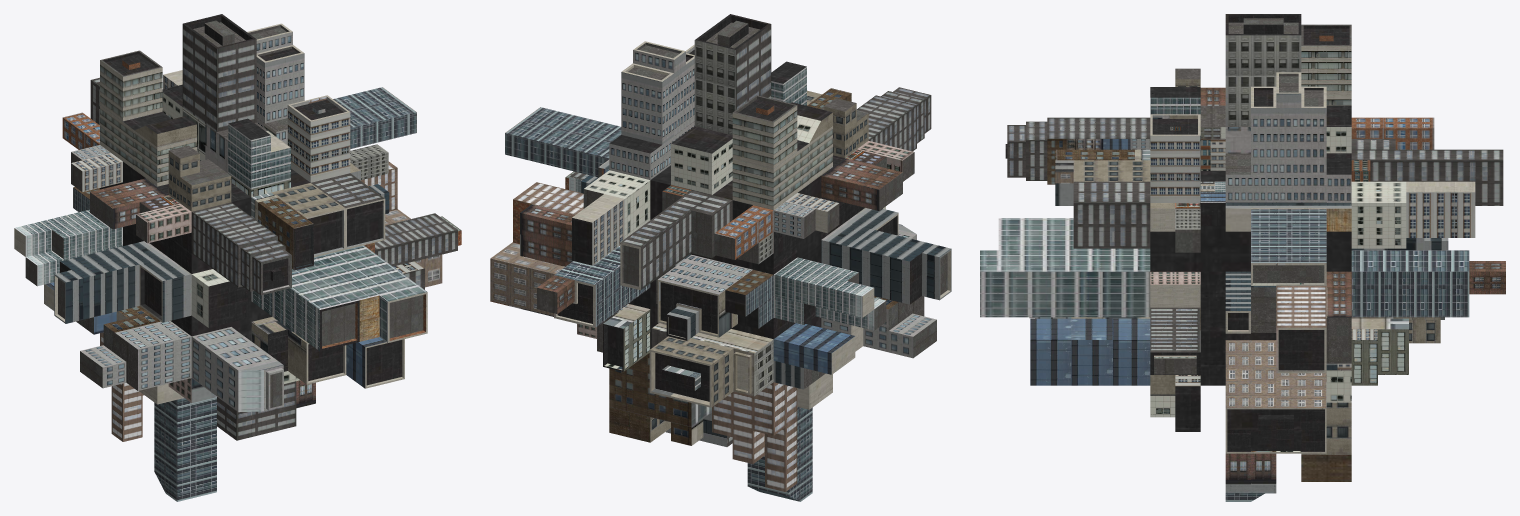
3 renders of one model, left to right at view 1: azimuth 30°, elevation 25°; view 2: azimuth 150°, elevation 25°; view 3: azimuth 270°, elevation 25°, orthographic. The views are drawn at different scales.
Visible parts, largest first — view 1: Cube; view 2: Cube; view 3: Cube.
Boxes of the visible parts, box(x1,y1,x2,y2) form: Cube: box(14, 14, 461, 501); Cube: box(490, 14, 951, 501); Cube: box(980, 14, 1505, 501).
Size of the model in its own units: 9.94 by 10.75 by 10.43.
1 material, 1 textured.
